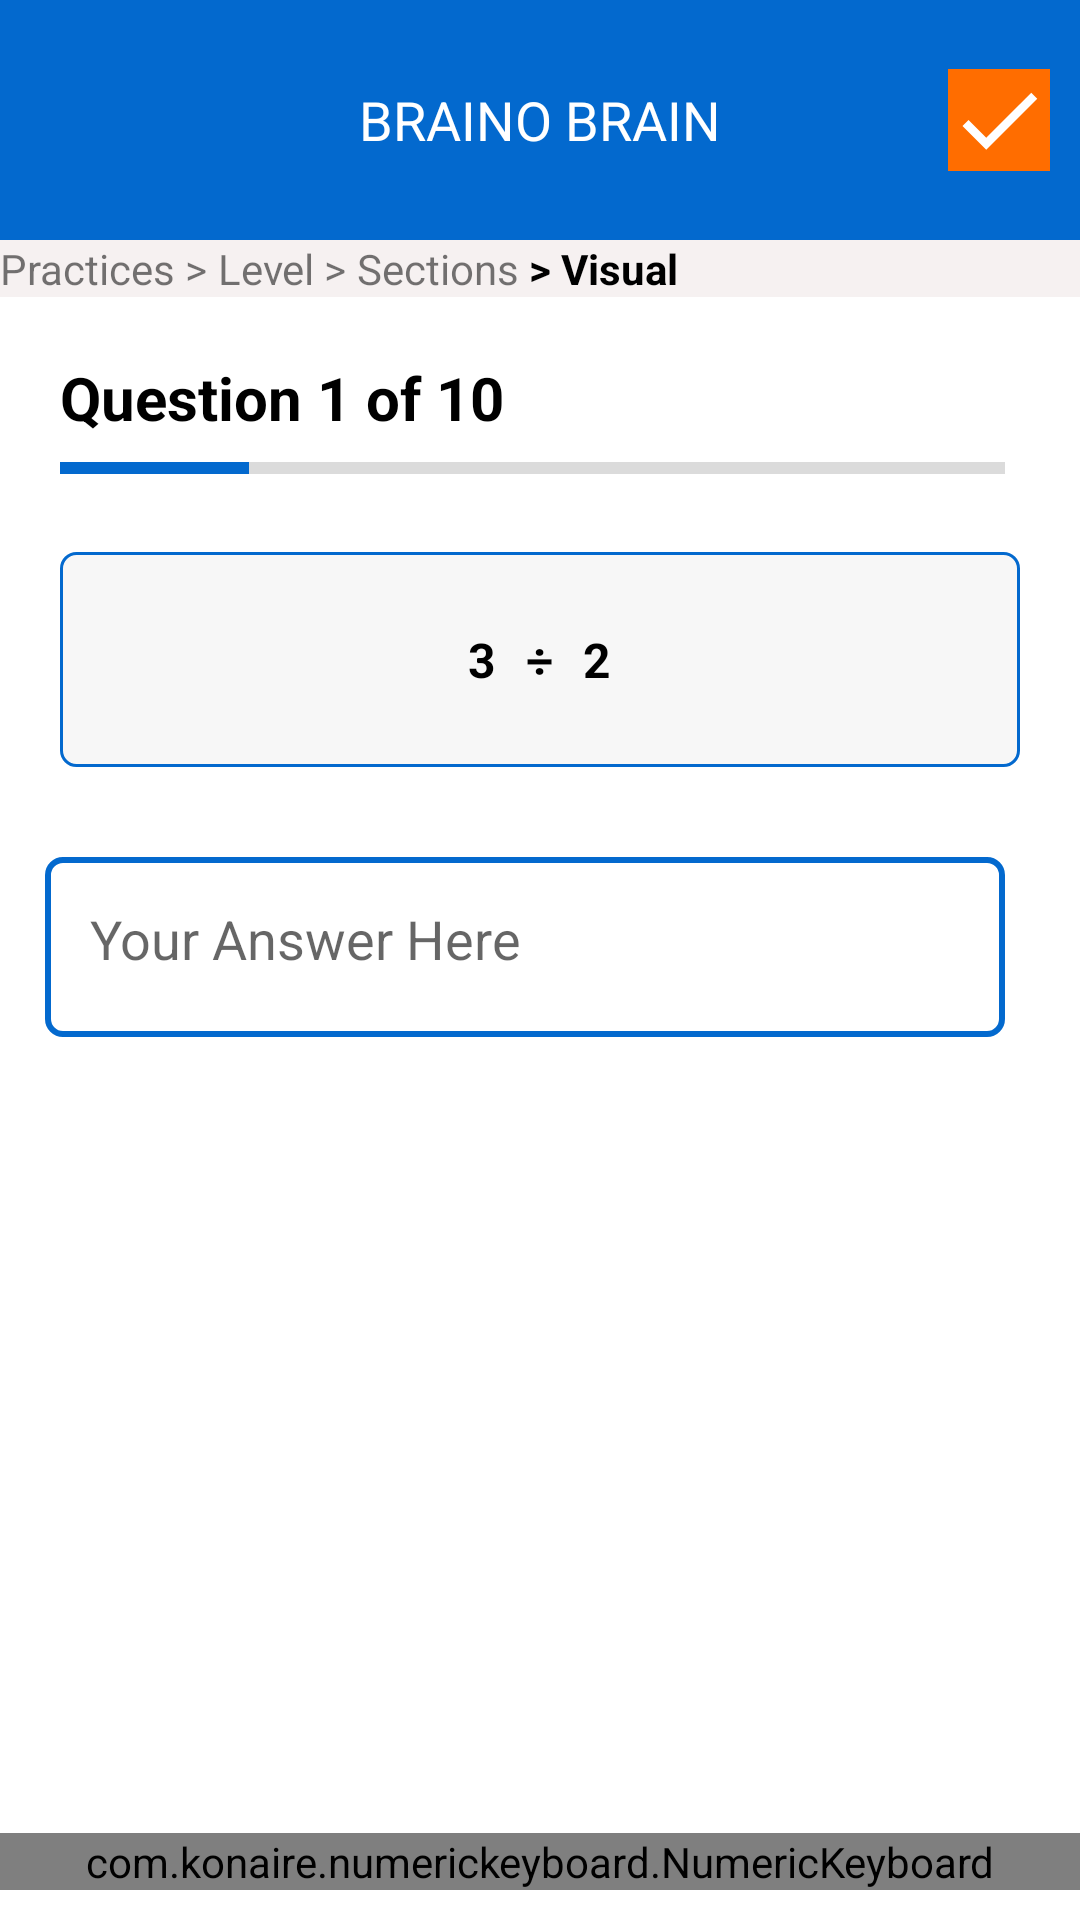

Locate icon controls on the screen. Image size 1080w x 1920h, boxes as bbox=(x1, y1, x2, y2).
check: bbox=(948, 69, 1050, 171)
